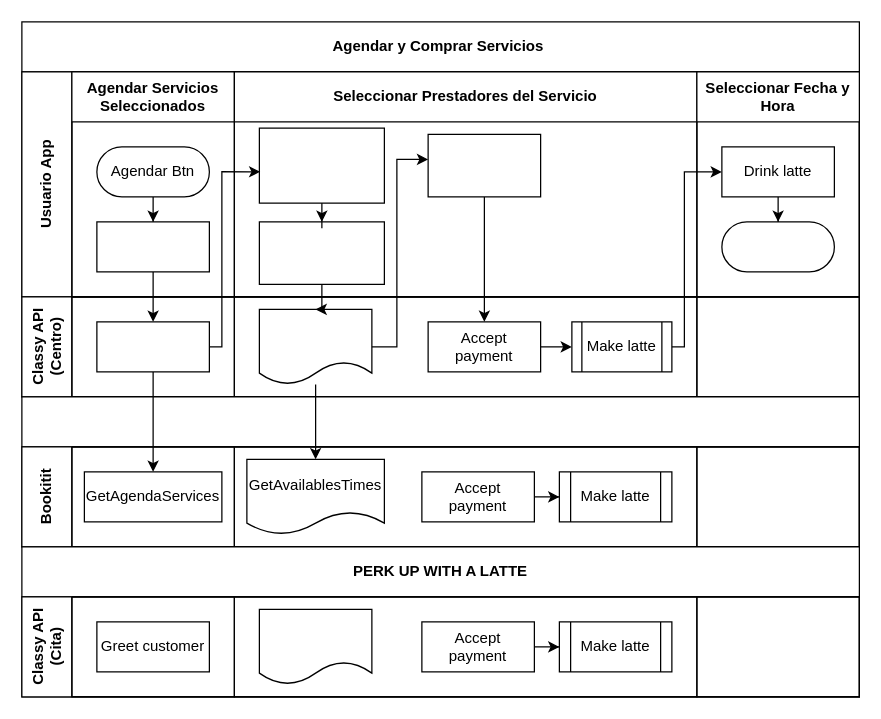
Some shapes in this 881 by 719 pixel diagram are drawn without their labels. The centre of each missing label's shape, as x and y in pixels:
Consular Horario Agenda x Servicio: point 315,346
Consutlar Agendas por Servicios: point 152,346
End: point 777,246
Pantalla de Agendamiento de Servicios: point 152,246
Pintar Tarjetas de Servicios con la Lista de Agendas: point 321,165
Primero Disponible x Servicio Aleatorio: point 321,252
Seleccionar Horario Disponible: point 484,165
Write details on cup: point 315,646
